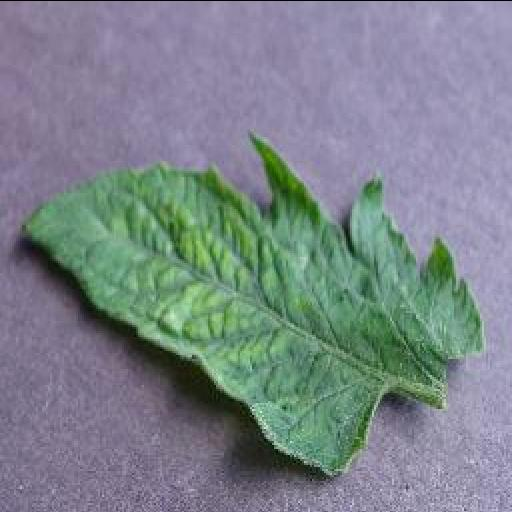disease_tomato: (20, 130, 488, 476)
